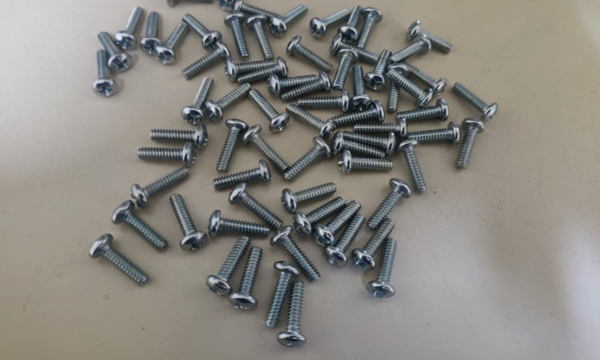shortscrew: (89, 233, 150, 287), (111, 201, 169, 253), (270, 227, 321, 284), (207, 235, 251, 296), (130, 168, 192, 209), (229, 183, 283, 229), (242, 124, 289, 175), (351, 219, 396, 272), (266, 261, 301, 329), (314, 200, 363, 248), (367, 178, 412, 230), (169, 194, 208, 252), (283, 137, 333, 181), (324, 214, 365, 267), (293, 196, 347, 236), (230, 246, 263, 311), (247, 88, 290, 134), (278, 281, 307, 349), (212, 160, 272, 192), (452, 82, 499, 122), (182, 42, 232, 79), (281, 183, 338, 215), (387, 71, 434, 109), (396, 140, 428, 195), (217, 119, 249, 174), (286, 105, 336, 140), (368, 240, 397, 300), (287, 36, 335, 72), (208, 211, 270, 238), (181, 77, 215, 126), (138, 141, 197, 168), (235, 56, 289, 85), (407, 21, 453, 55), (183, 13, 223, 52), (400, 63, 447, 96), (332, 132, 386, 160), (456, 118, 485, 170), (330, 34, 382, 63), (150, 124, 208, 149), (246, 13, 275, 62), (155, 22, 187, 66), (341, 131, 397, 156), (98, 32, 132, 73), (338, 150, 393, 175), (269, 4, 309, 38), (408, 121, 460, 147), (333, 101, 385, 127), (92, 50, 119, 99), (114, 7, 144, 51), (224, 13, 251, 61), (310, 9, 351, 40), (298, 89, 350, 113), (331, 49, 359, 93), (224, 58, 275, 82), (388, 36, 431, 64), (386, 64, 410, 113), (365, 47, 391, 92), (354, 118, 409, 139), (350, 66, 373, 113), (357, 8, 383, 48), (337, 6, 363, 44), (141, 11, 163, 55), (234, 0, 279, 20), (217, 0, 256, 11), (166, 0, 215, 7)
